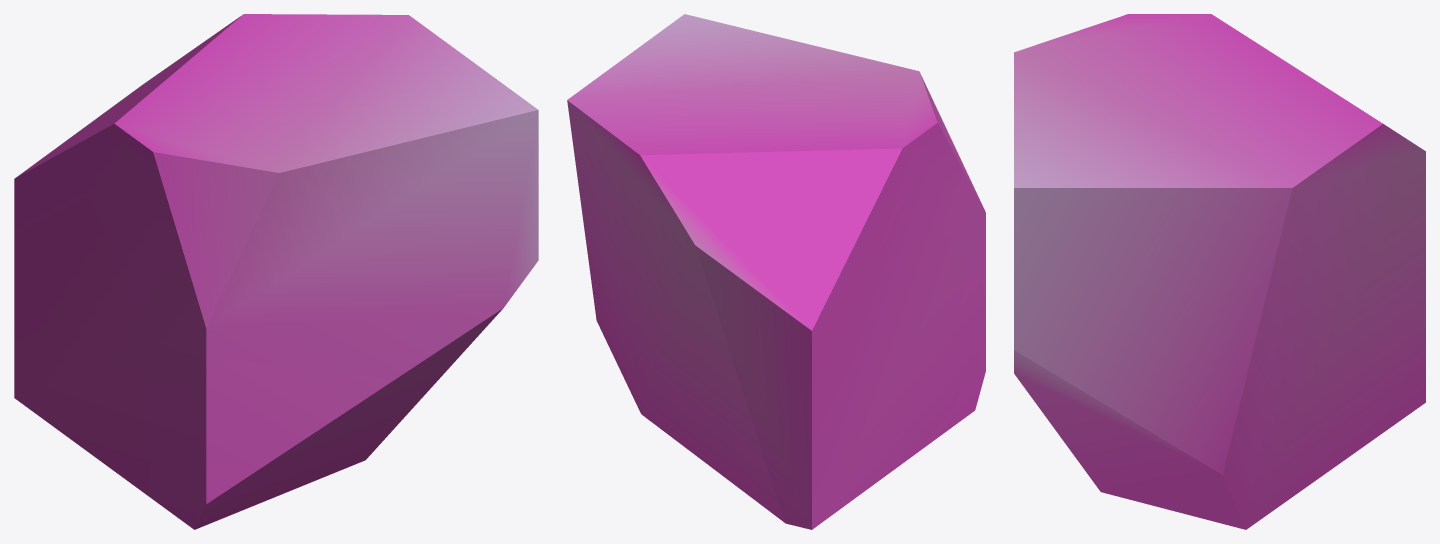
Rendered from rock.glb.
The picture shows the model from 3 angles, left to right: view 1: azimuth 30°, elevation 25°; view 2: azimuth 150°, elevation 25°; view 3: azimuth 270°, elevation 25°; orthographic projection. The views are drawn at different scales.
Visible parts, largest first — view 1: Cube; view 2: Cube; view 3: Cube.
Boxes of the visible parts, x1,y1,x2,y2 form: Cube: (14, 14, 538, 529); Cube: (567, 14, 985, 529); Cube: (1014, 14, 1425, 529).
Bounding box in the file's own units: 2 × 2 × 2.
